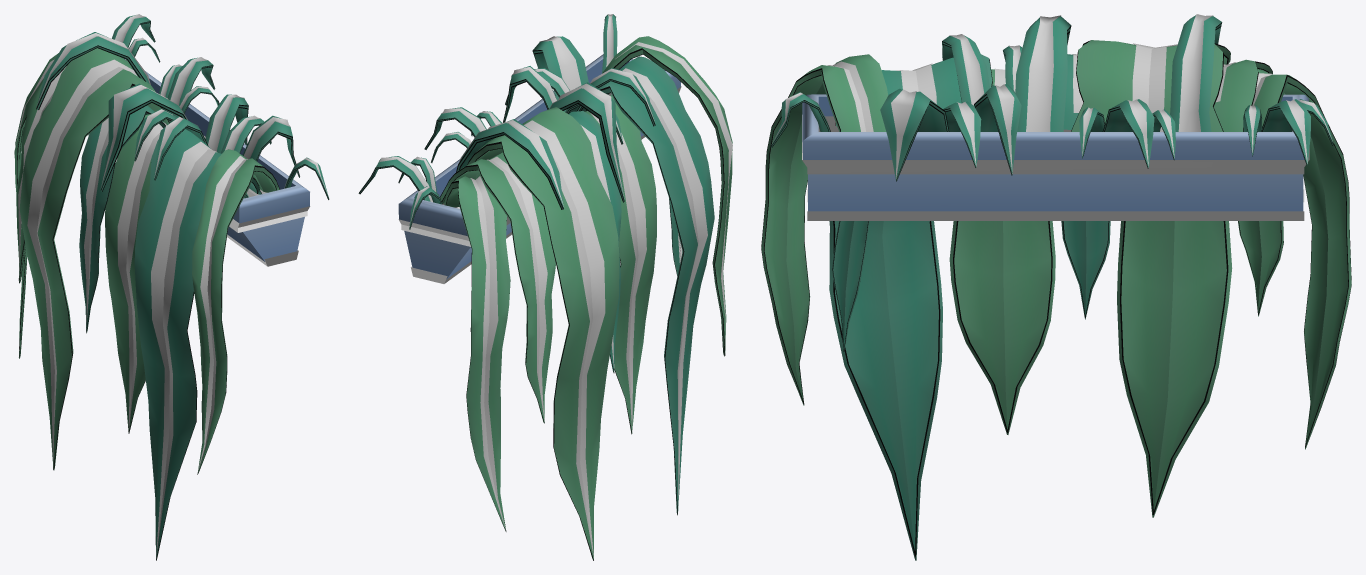
The model's file is Rooms_Paradise_NarrowFlowerPot_01_Art.fbx.
The picture shows the model from 3 angles, left to right: view 1: azimuth 30°, elevation 25°; view 2: azimuth 150°, elevation 25°; view 3: azimuth 270°, elevation 25°; orthographic projection. The views are drawn at different scales.
Parts seen in each view (by area): view 1: Rooms_Paradise_NarrowFlowerPot_01_sheets, Rooms_Paradise_NarrowFlowerPot_01_Art, Rooms_Paradise_NarrowFlowerPot_01_Shadows; view 2: Rooms_Paradise_NarrowFlowerPot_01_sheets, Rooms_Paradise_NarrowFlowerPot_01_Art, Rooms_Paradise_NarrowFlowerPot_01_Shadows; view 3: Rooms_Paradise_NarrowFlowerPot_01_sheets, Rooms_Paradise_NarrowFlowerPot_01_Art, Rooms_Paradise_NarrowFlowerPot_01_Shadows.
Boxes of the visible parts, box(x1,y1,x2,y2) form: Rooms_Paradise_NarrowFlowerPot_01_sheets: box(14, 14, 329, 560); Rooms_Paradise_NarrowFlowerPot_01_Art: box(124, 59, 309, 261); Rooms_Paradise_NarrowFlowerPot_01_Shadows: box(88, 122, 310, 266); Rooms_Paradise_NarrowFlowerPot_01_sheets: box(358, 14, 732, 560); Rooms_Paradise_NarrowFlowerPot_01_Art: box(398, 54, 680, 279); Rooms_Paradise_NarrowFlowerPot_01_Shadows: box(398, 86, 681, 283); Rooms_Paradise_NarrowFlowerPot_01_sheets: box(761, 14, 1351, 560); Rooms_Paradise_NarrowFlowerPot_01_Art: box(802, 94, 1308, 211); Rooms_Paradise_NarrowFlowerPot_01_Shadows: box(802, 115, 1309, 220).
Bounding box in the file's own units: 182 × 432 × 405.
